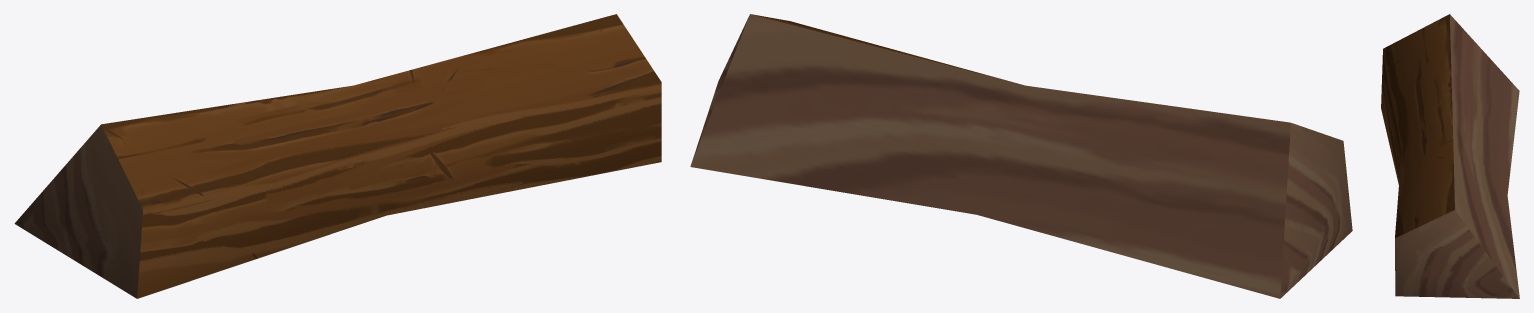
The model's file is SM_PROP_log_battle.fbx.
The picture shows the model from 3 angles, left to right: view 1: azimuth 30°, elevation 25°; view 2: azimuth 150°, elevation 25°; view 3: azimuth 270°, elevation 25°; orthographic projection. The views are drawn at different scales.
Visible parts, largest first — view 1: SM_PROP_log_battle; view 2: SM_PROP_log_battle; view 3: SM_PROP_log_battle.
Part boxes in pixels (left/top/right/bottom): SM_PROP_log_battle: left=14, top=14, right=661, bottom=298; SM_PROP_log_battle: left=690, top=14, right=1352, bottom=298; SM_PROP_log_battle: left=1381, top=14, right=1519, bottom=298.
Bounding box in the file's own units: 38.51 × 8.64 × 11.
